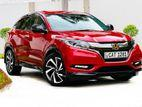car: (3, 9, 142, 92)
